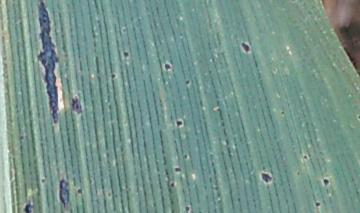tarspot: (34, 1, 60, 125), (57, 178, 70, 208), (258, 170, 275, 185), (69, 94, 81, 115), (238, 40, 252, 55), (174, 117, 184, 130), (162, 61, 173, 72), (23, 202, 33, 213), (119, 25, 128, 35), (184, 77, 192, 88), (321, 177, 330, 186), (121, 51, 131, 58), (75, 187, 83, 195), (182, 152, 189, 161), (174, 166, 183, 173), (184, 204, 191, 213), (18, 133, 25, 141), (109, 72, 116, 80), (295, 168, 301, 177), (271, 65, 277, 74), (169, 179, 174, 189), (206, 68, 213, 75), (40, 177, 46, 185), (314, 200, 320, 208), (302, 153, 308, 161), (280, 108, 285, 116), (357, 113, 360, 123)
